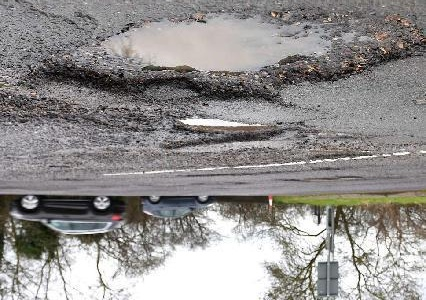pothole: (40, 8, 423, 104), (162, 114, 286, 151), (0, 89, 70, 125), (281, 175, 363, 185), (311, 150, 372, 162)
